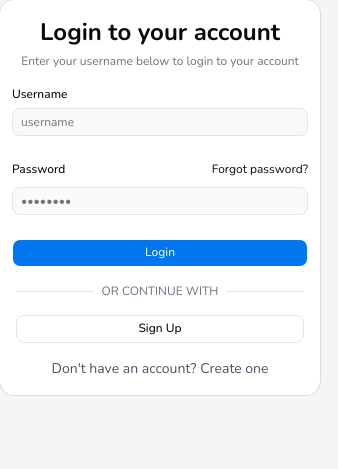
Scenario: LoginPage › blocks submission and shows validation errors for short input
Type "ab" into the field labelled "Username" at (160,122), box [12,108,308,136]
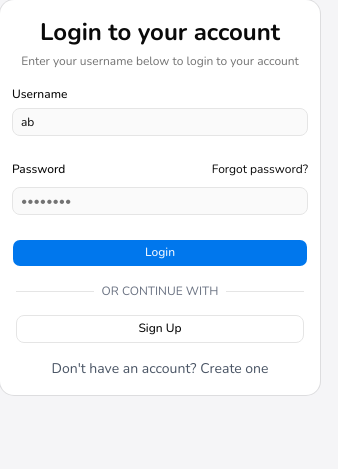
Type "123" into the password field labelled "Password" at (160,201), box [12,187,308,215]
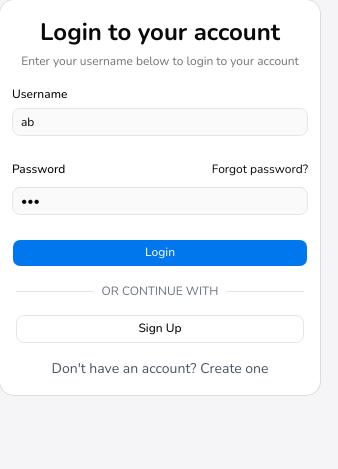
Click the button "Login" at (160,253), box [12,239,308,267]
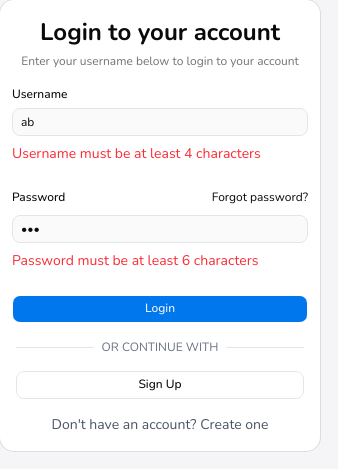
expect the text "Username must be at least 4 characters" is shown: met, box [12,144,261,162]
expect the text "Password must be at least 6 characters" is shown: met, box [12,251,258,270]
